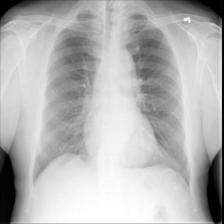normal: (28, 3, 193, 193)
